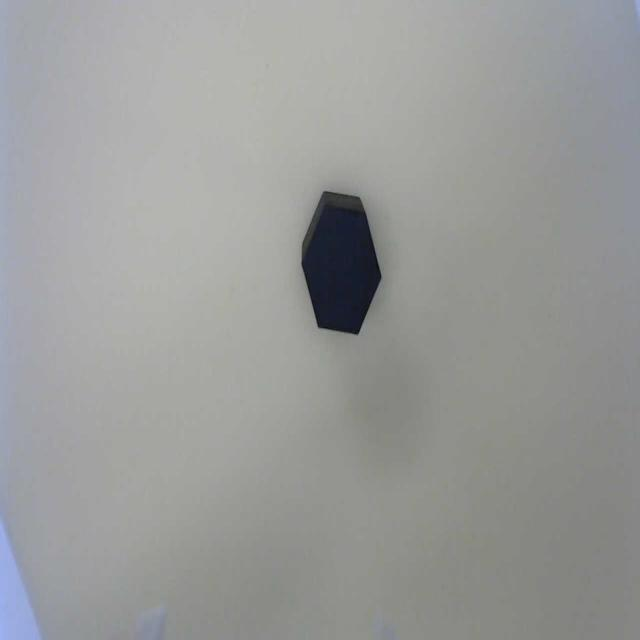hexagon: (298, 200, 385, 338)
